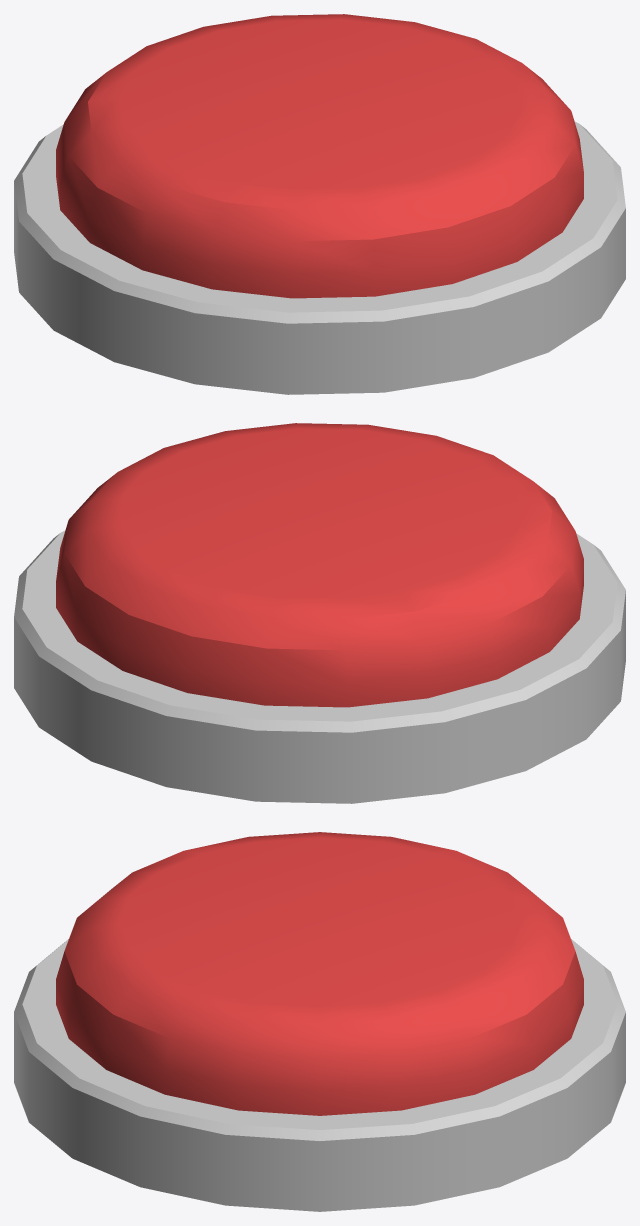
Rendered from BigRedButton.fbx.
3 renders of one model, top to bottom at view 1: azimuth 30°, elevation 25°; view 2: azimuth 150°, elevation 25°; view 3: azimuth 270°, elevation 25°, orthographic.
Visible parts, largest first — view 1: pCylinder1; view 2: pCylinder1; view 3: pCylinder1.
Part boxes in pixels (x1,y1,x2,y2): pCylinder1: (14, 14, 625, 394); pCylinder1: (14, 423, 625, 803); pCylinder1: (14, 832, 625, 1211).
Bounding box in the file's own units: 145 × 41.88 × 145.
